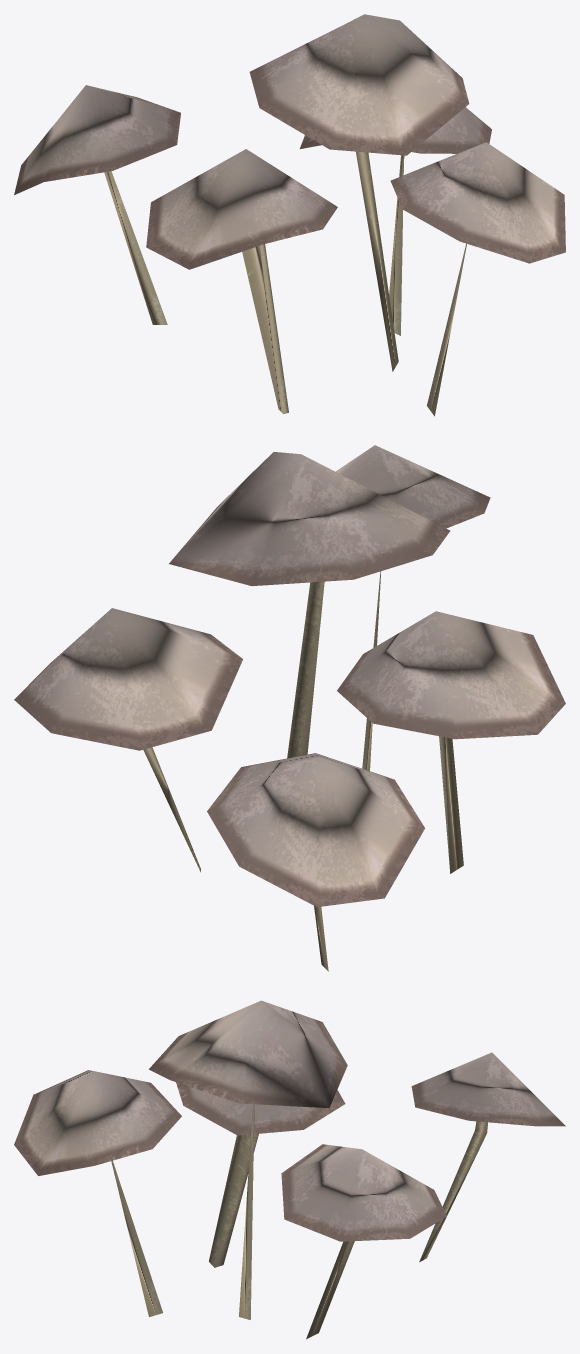
File: Mushroom_Common@lod.gltf
The picture shows the model from 3 angles, top to bottom: view 1: azimuth 30°, elevation 25°; view 2: azimuth 150°, elevation 25°; view 3: azimuth 270°, elevation 25°; orthographic projection. The views are drawn at different scales.
Visible parts, largest first — view 1: Mushroom_Common; view 2: Mushroom_Common; view 3: Mushroom_Common.
Boxes of the visible parts, box(x1,y1,x2,y2) form: Mushroom_Common: box(14, 14, 565, 416); Mushroom_Common: box(14, 445, 565, 971); Mushroom_Common: box(14, 1000, 565, 1339).
Size of the model in its own units: 0.5249 by 0.4635 by 0.7382.
1 material, 1 textured.
